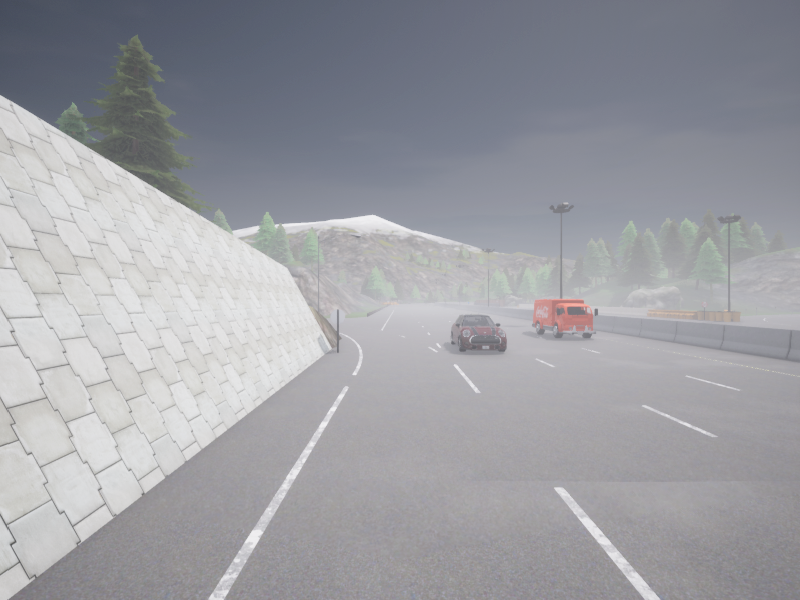vehicle: (532, 299, 597, 337), (451, 313, 506, 351), (467, 302, 469, 303)
